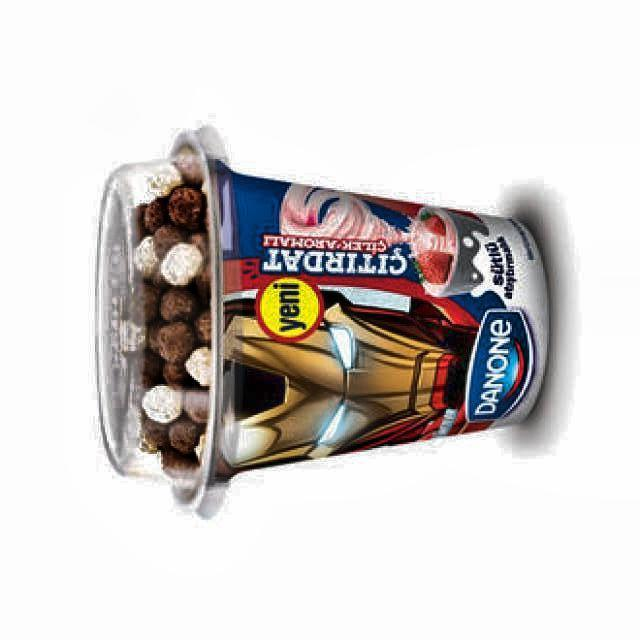plastic: (99, 131, 549, 502)
